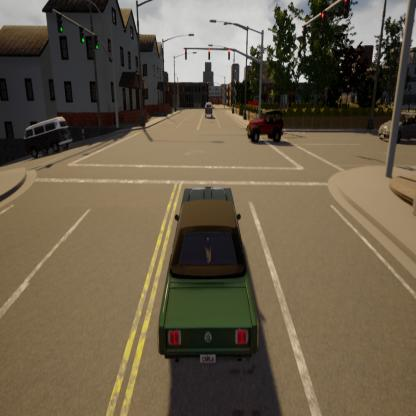Cars: (149, 158, 268, 380), (17, 93, 83, 171), (242, 96, 298, 171), (370, 92, 416, 156), (195, 81, 223, 131)
